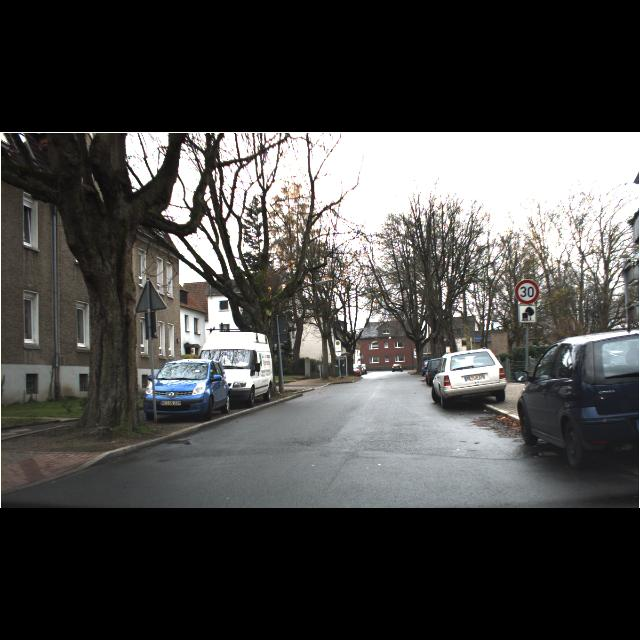prohibitory: (514, 280, 540, 304)
